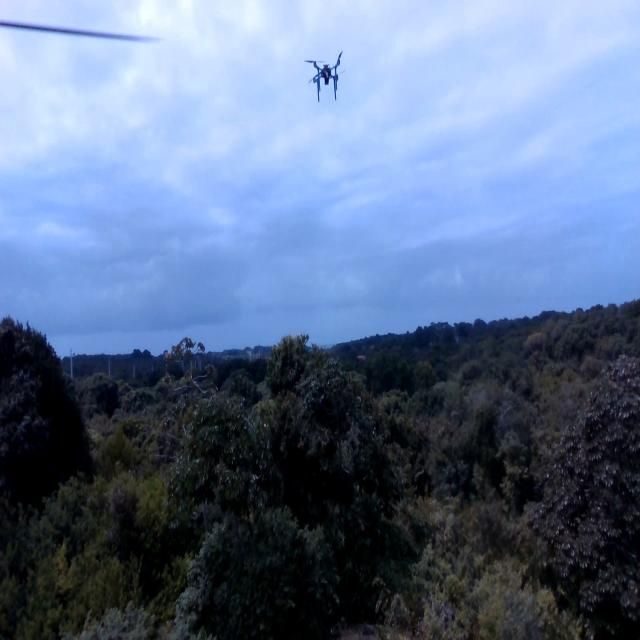-uav-: (298, 43, 357, 117)
